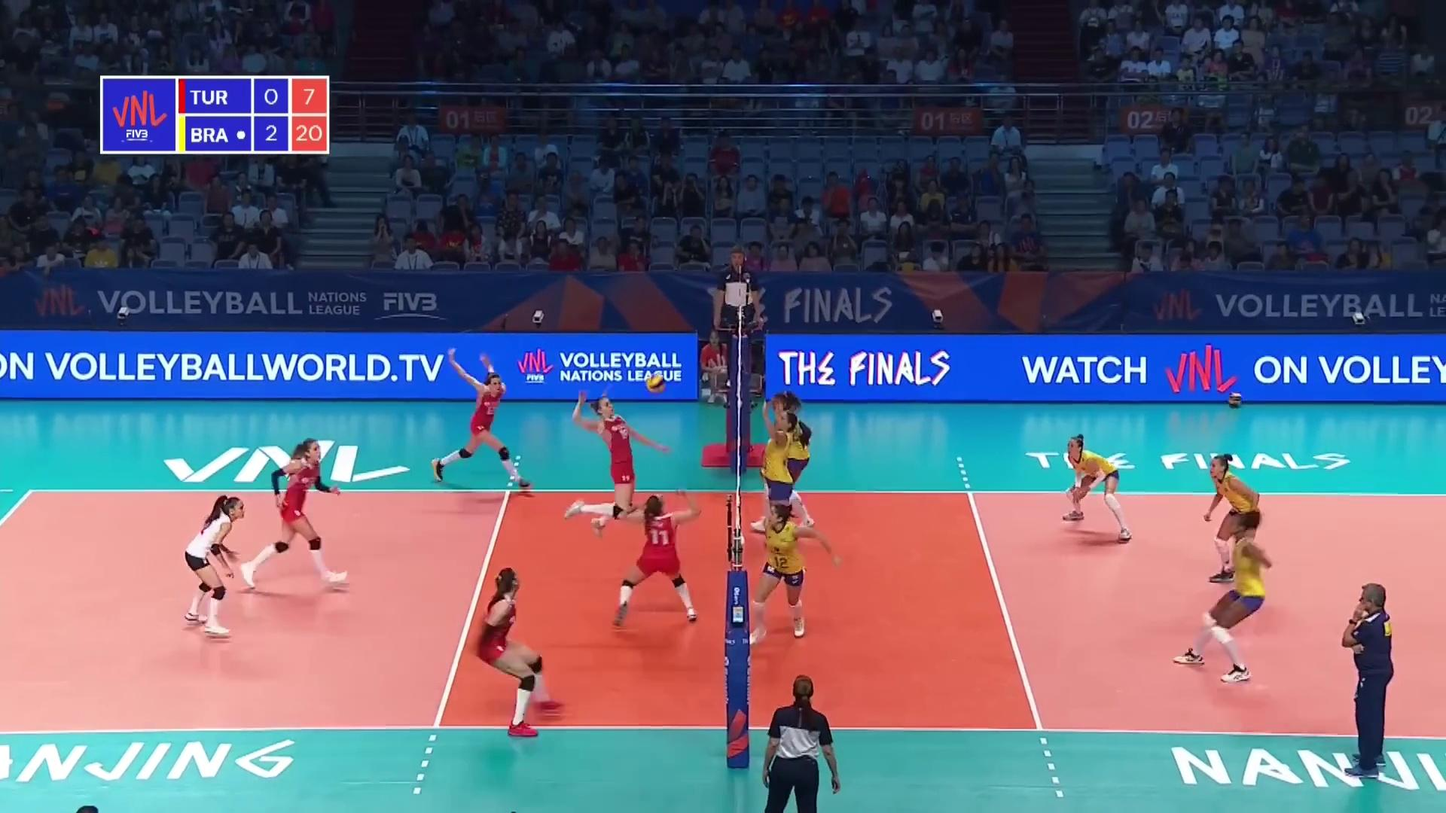player: (1182, 510, 1276, 682), (254, 438, 351, 587), (479, 567, 563, 732), (571, 395, 669, 531), (603, 496, 701, 629), (430, 366, 532, 487), (756, 501, 835, 641), (179, 492, 249, 637), (1203, 453, 1273, 582), (752, 396, 816, 534), (1061, 436, 1133, 543), (760, 408, 801, 561)
refree: (762, 677, 842, 810), (716, 246, 761, 389)
